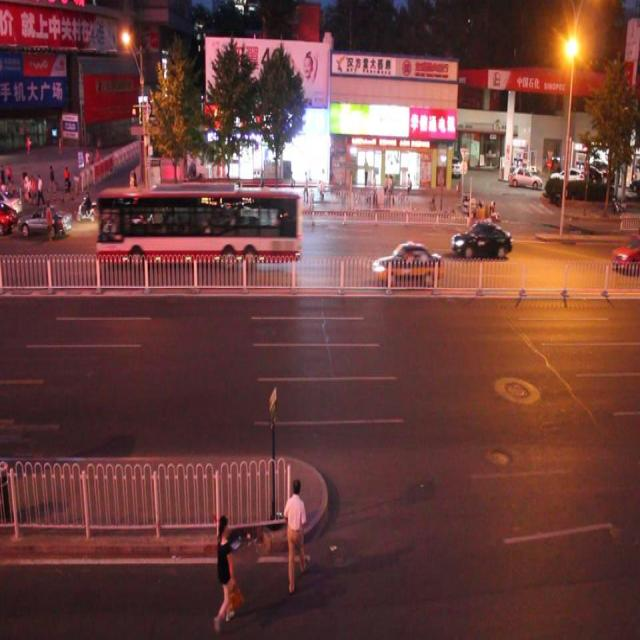bus: (153, 184, 240, 259)
car: (369, 240, 443, 284), (450, 219, 511, 260), (17, 197, 72, 238), (100, 200, 154, 240)
van: (95, 184, 301, 266)
